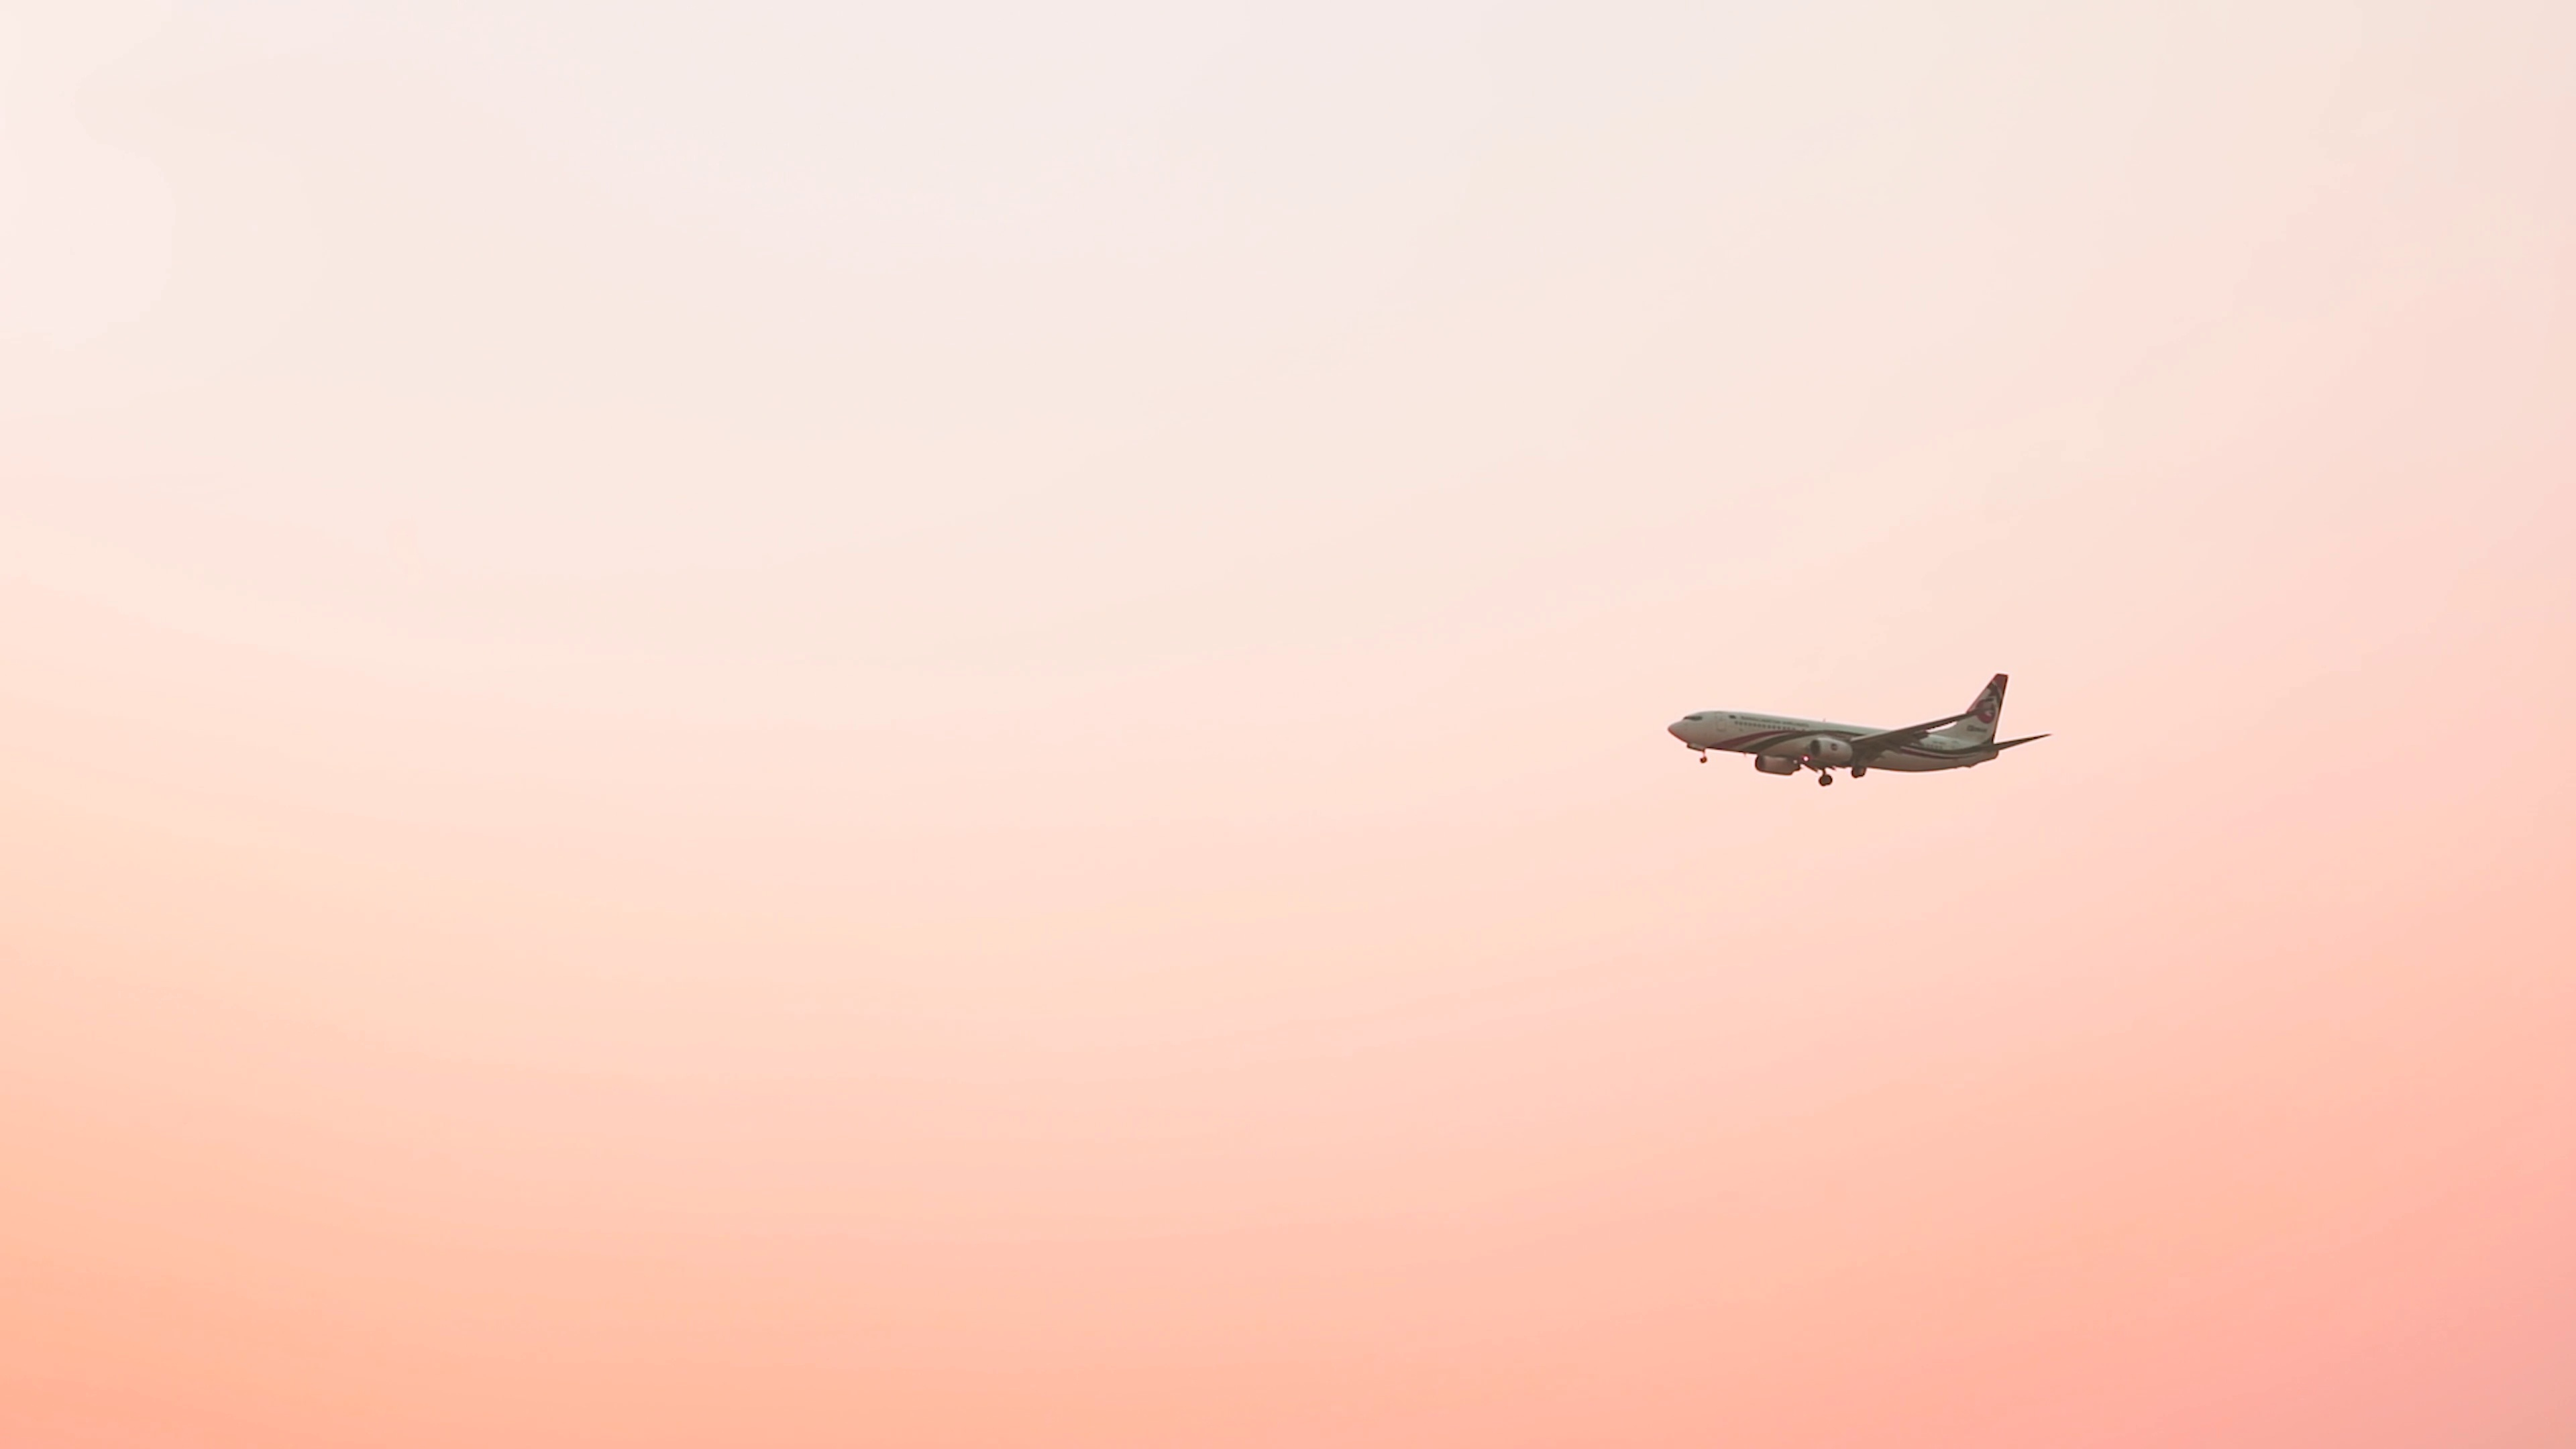plane: (1667, 674, 2051, 786)
